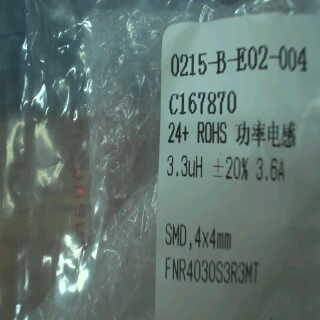3.3uH: (157, 150, 205, 187)
